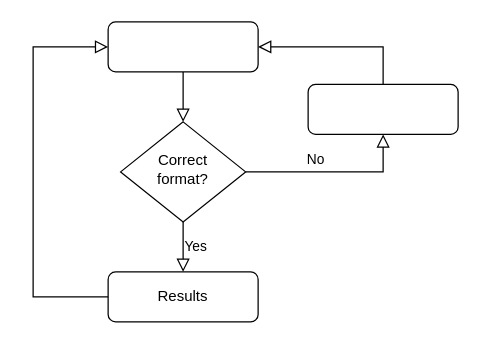
This 480x344 diagram has some shape labels left out. Here are the shapes that lost their labels. From the top down, the centre of each, then its label:
the point at 182,46: Data File Upload
the point at 382,108: Communicate "File Format Error"
